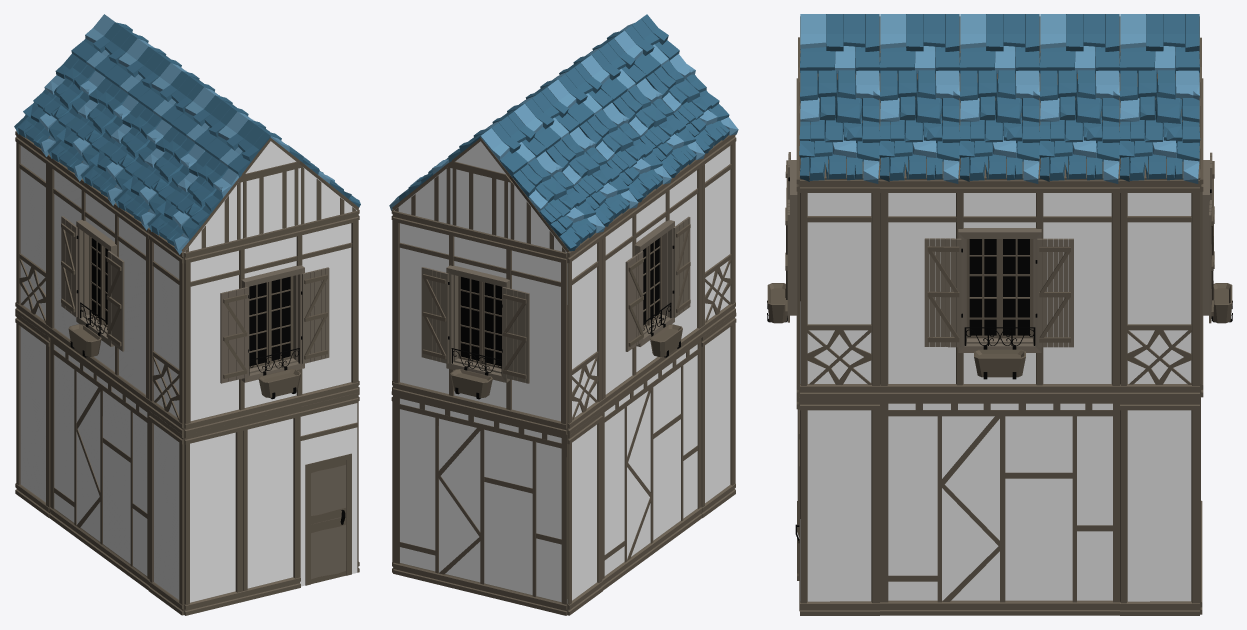
File: house_08_full.fbx
3 renders of one model, left to right at view 1: azimuth 30°, elevation 25°; view 2: azimuth 150°, elevation 25°; view 3: azimuth 270°, elevation 25°, orthographic. The views are drawn at different scales.
Parts seen in each view (by area): view 1: WINDOW_05_2, WINDOW_05_4, WALL_05_2, WALL_03_4, WALL_03_3, DOOR_01_3, WALL_04_6, WALL_03_5, WALL_03_6, WALL_04_5, ROOF_base_8, ROOF_base_10 (+13 smaller); view 2: WINDOW_05_5, WALL_05_3, WINDOW_05_4, WALL_05_2, WALL_04_5, WALL_03_6, WALL_03_5, WALL_04_6, ROOF_base_12, ROOF_base_10, ROOF_base_8, ROOF_base_9 (+11 smaller); view 3: WINDOW_05_3, WALL_05_4, WALL_04_4, WALL_04_3, WALL_03_7, WALL_03_8, ROOF_base_3, ROOF_base_6, ROOF_base_4, ROOF_base_5, ROOF_base_7, ROOF_base_small_5 (+6 smaller).
Part boxes in pixels (x1,y1,x2,y2): WINDOW_05_2: [184, 210, 358, 434]; WINDOW_05_4: [48, 155, 149, 409]; WALL_05_2: [49, 338, 149, 590]; WALL_03_4: [184, 421, 243, 615]; WALL_03_3: [242, 407, 300, 601]; DOOR_01_3: [300, 392, 358, 586]; WALL_04_6: [148, 228, 184, 434]; WALL_03_5: [148, 410, 184, 615]; WALL_03_6: [15, 313, 50, 517]; WALL_04_5: [15, 131, 49, 336]; ROOF_base_8: [147, 151, 241, 254]; ROOF_base_10: [80, 102, 171, 205]; WINDOW_05_5: [392, 210, 567, 434]; WALL_05_3: [393, 393, 567, 615]; WINDOW_05_4: [601, 159, 702, 409]; WALL_05_2: [601, 338, 702, 590]; WALL_04_5: [567, 232, 602, 434]; WALL_03_6: [567, 410, 602, 615]; WALL_03_5: [701, 313, 736, 517]; WALL_04_6: [701, 134, 736, 336]; ROOF_base_12: [509, 151, 605, 252]; ROOF_base_10: [579, 103, 671, 202]; ROOF_base_8: [646, 53, 738, 153]; ROOF_base_9: [613, 78, 704, 177]; WINDOW_05_3: [880, 179, 1119, 398]; WALL_05_4: [880, 398, 1119, 615]; WALL_04_4: [1120, 179, 1199, 398]; WALL_04_3: [800, 179, 879, 398]; WALL_03_7: [800, 398, 879, 615]; WALL_03_8: [1120, 398, 1199, 615]; ROOF_base_3: [799, 69, 880, 183]; ROOF_base_6: [1039, 69, 1120, 183]; ROOF_base_4: [879, 69, 960, 183]; ROOF_base_5: [959, 69, 1040, 183]; ROOF_base_7: [1119, 70, 1200, 183]; ROOF_base_small_5: [880, 14, 959, 73].
Bounding box in the file's own units: 382 × 759 × 582.
